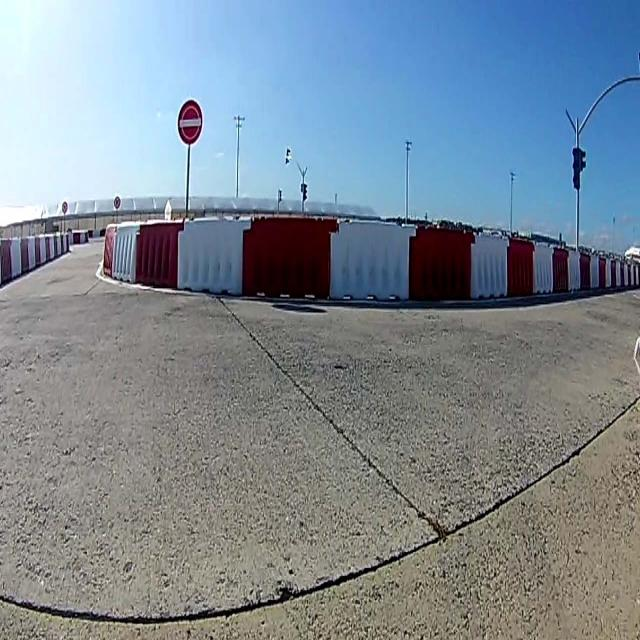girisyok: (177, 102, 203, 142)
